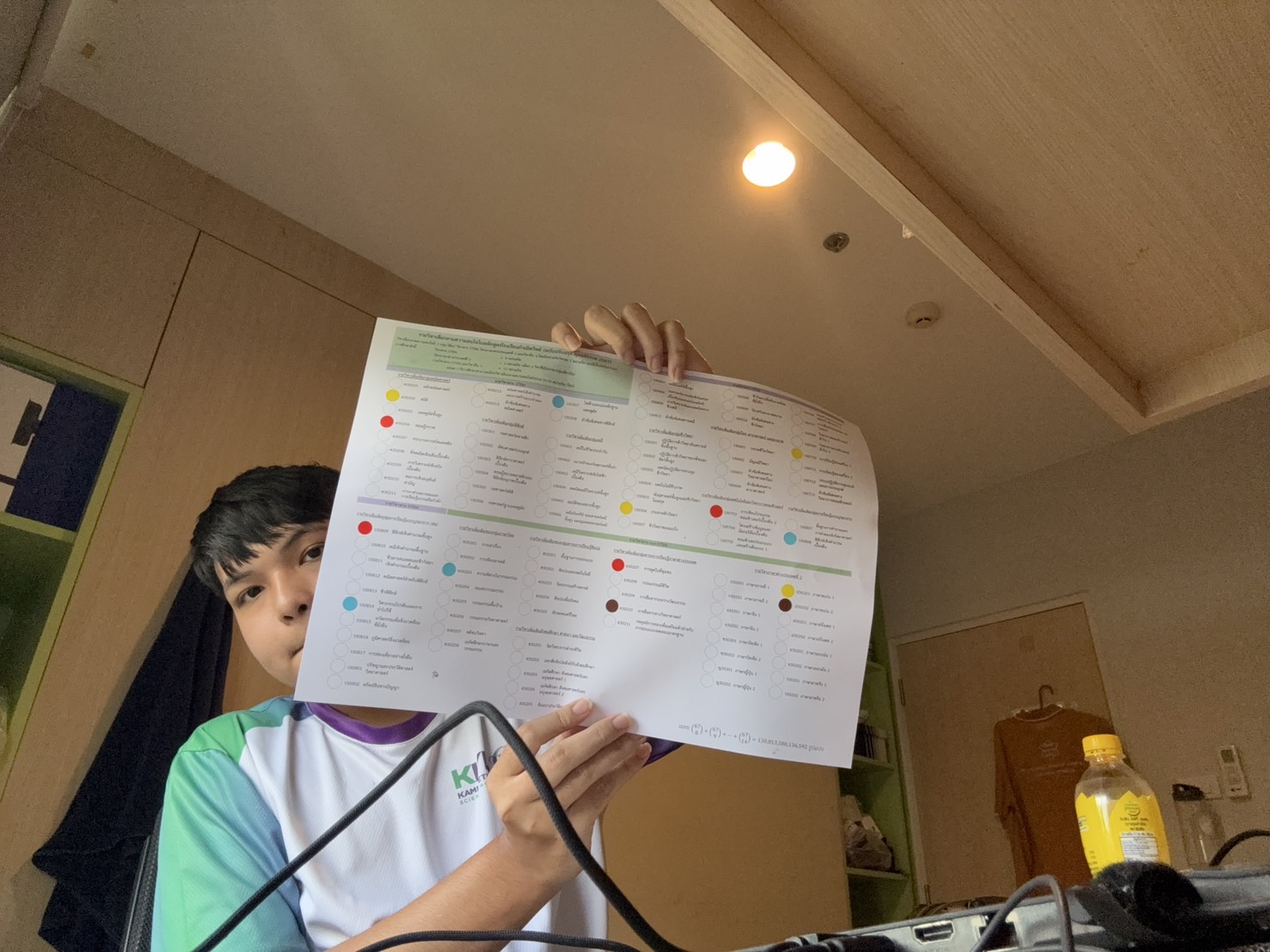paper: (294, 317, 878, 769)
